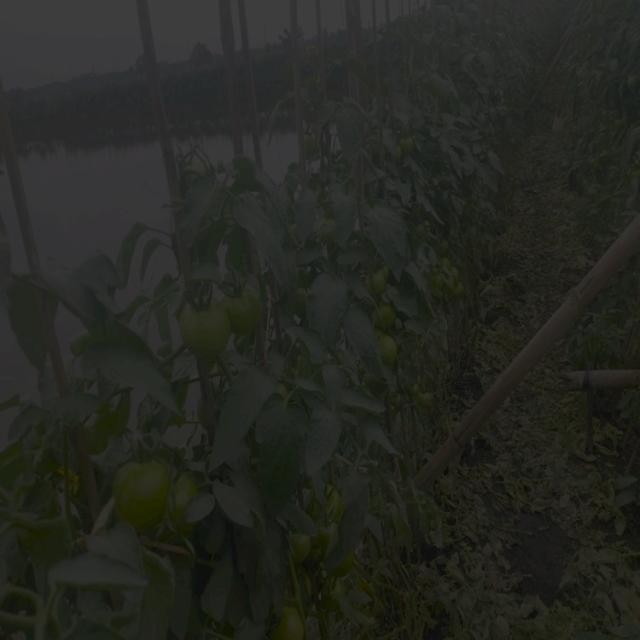tomato: (112, 459, 174, 531), (174, 295, 236, 362), (221, 275, 259, 336), (165, 461, 198, 502), (441, 266, 469, 300), (281, 606, 305, 640), (378, 335, 404, 366), (324, 517, 344, 555), (291, 529, 312, 564), (375, 300, 398, 329), (370, 268, 392, 291), (402, 131, 418, 159), (326, 487, 344, 511)
